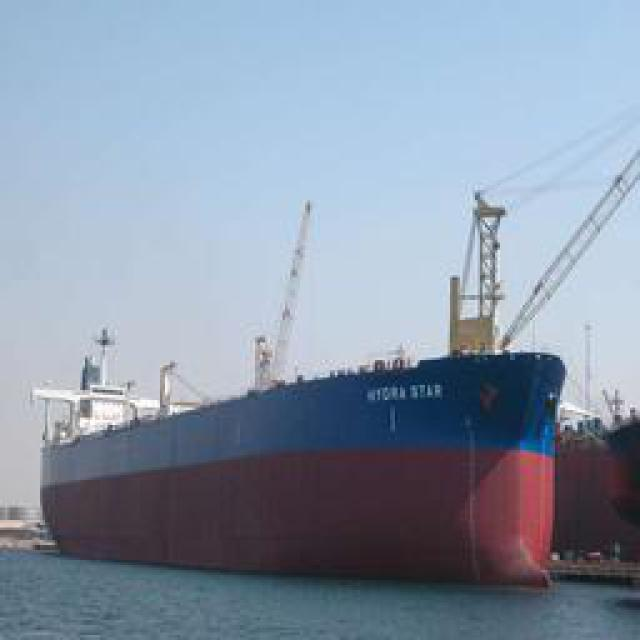Ship: (35, 190, 608, 590)
